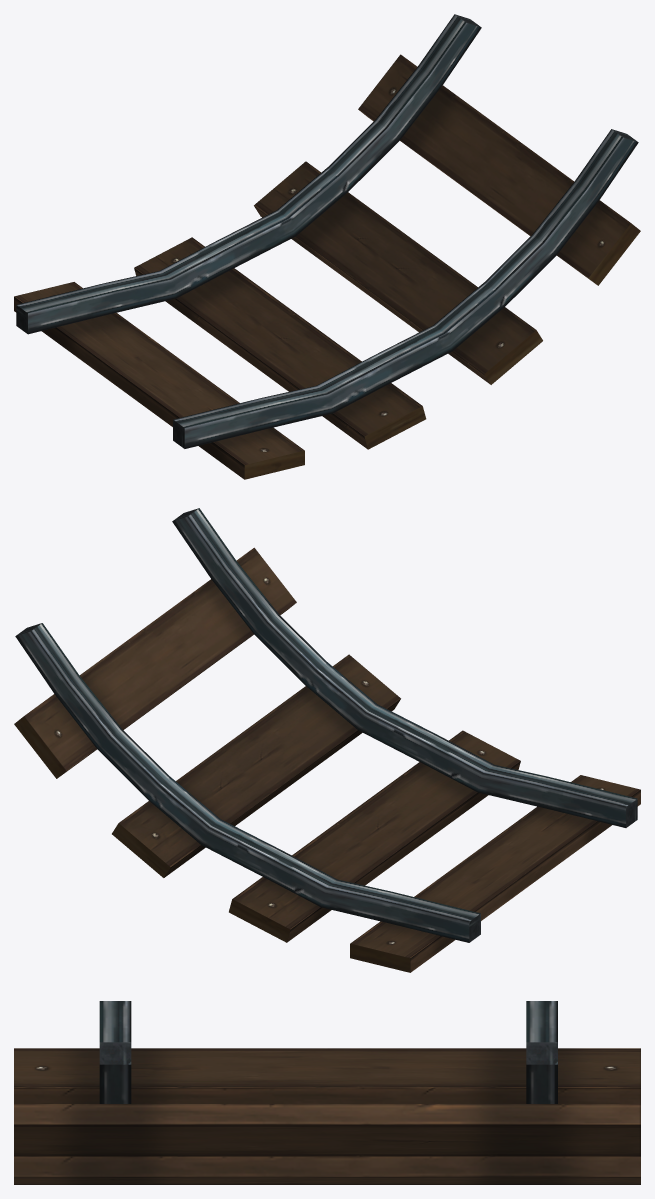
File: rail8.FBX
3 views of the same model, one above another, from view 1: azimuth 30°, elevation 25°; view 2: azimuth 150°, elevation 25°; view 3: azimuth 270°, elevation 25° (orthographic). The views are drawn at different scales.
Parts seen in each view (by area): view 1: rail8; view 2: rail8; view 3: rail8.
Part boxes in pixels (left/top/right/bottom): rail8: left=14, top=14, right=640, bottom=479; rail8: left=14, top=508, right=640, bottom=972; rail8: left=14, top=1001, right=640, bottom=1184.
Bounding box in the file's own units: 136 × 62.58 × 119.
